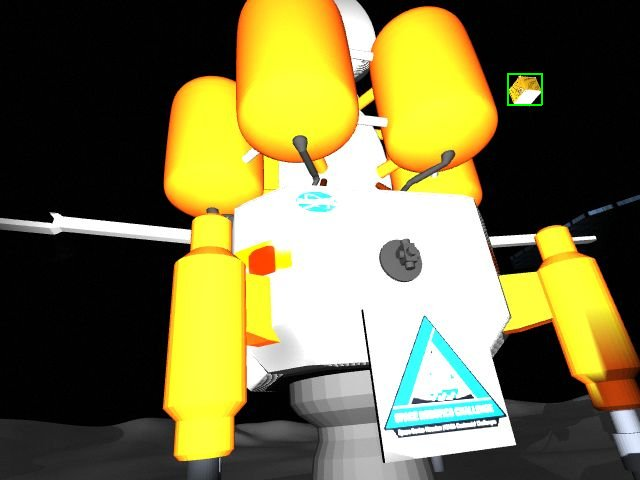basemarker: (383, 314, 508, 440)
